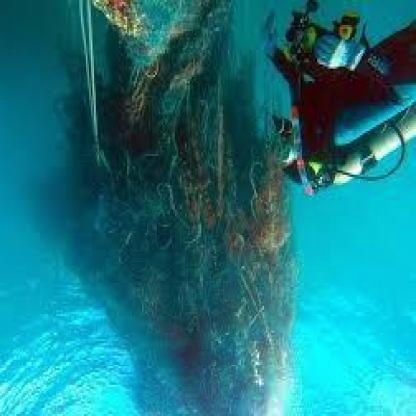net: (64, 2, 302, 414)
